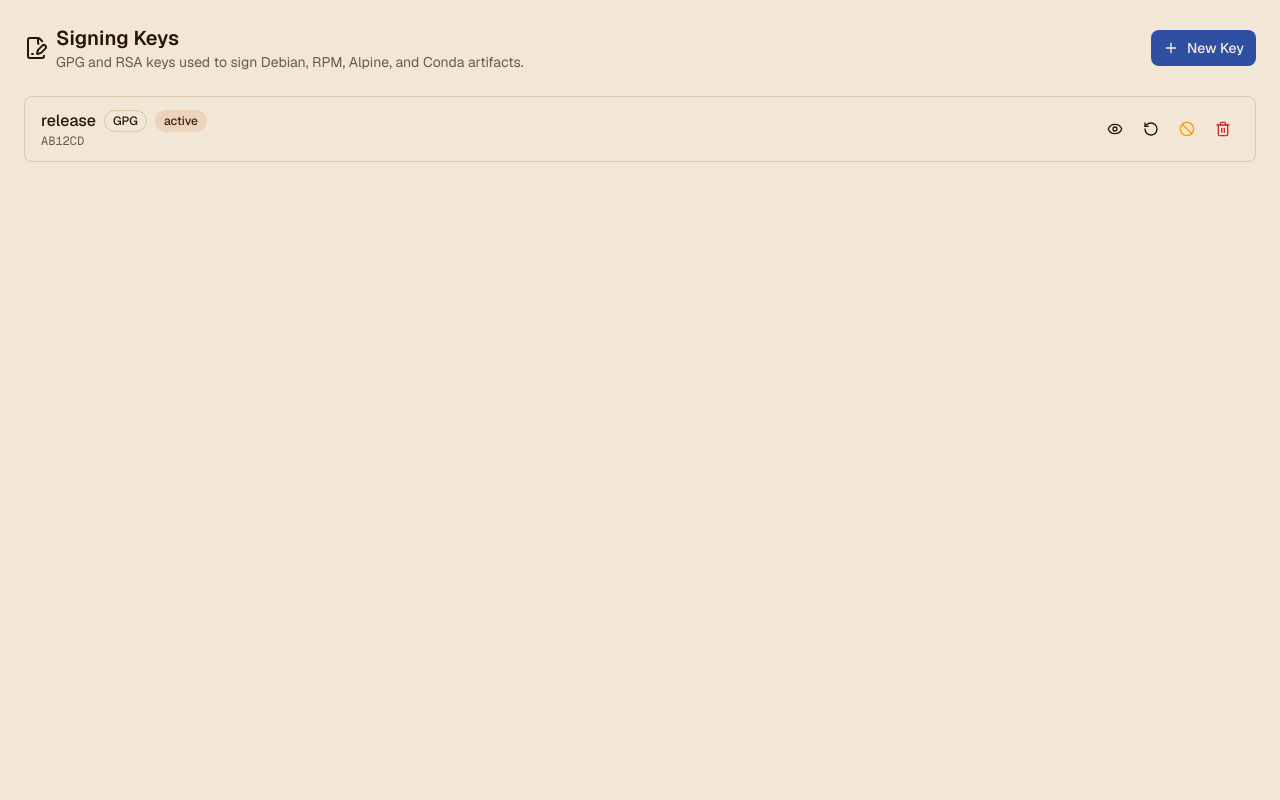
Scenario: SigningPage › opens the public-key dialog
This screenshot has width=1280, height=800.
Click the button named "View public key for release". click: (1115,129)
box: [1099,113,1131,145]
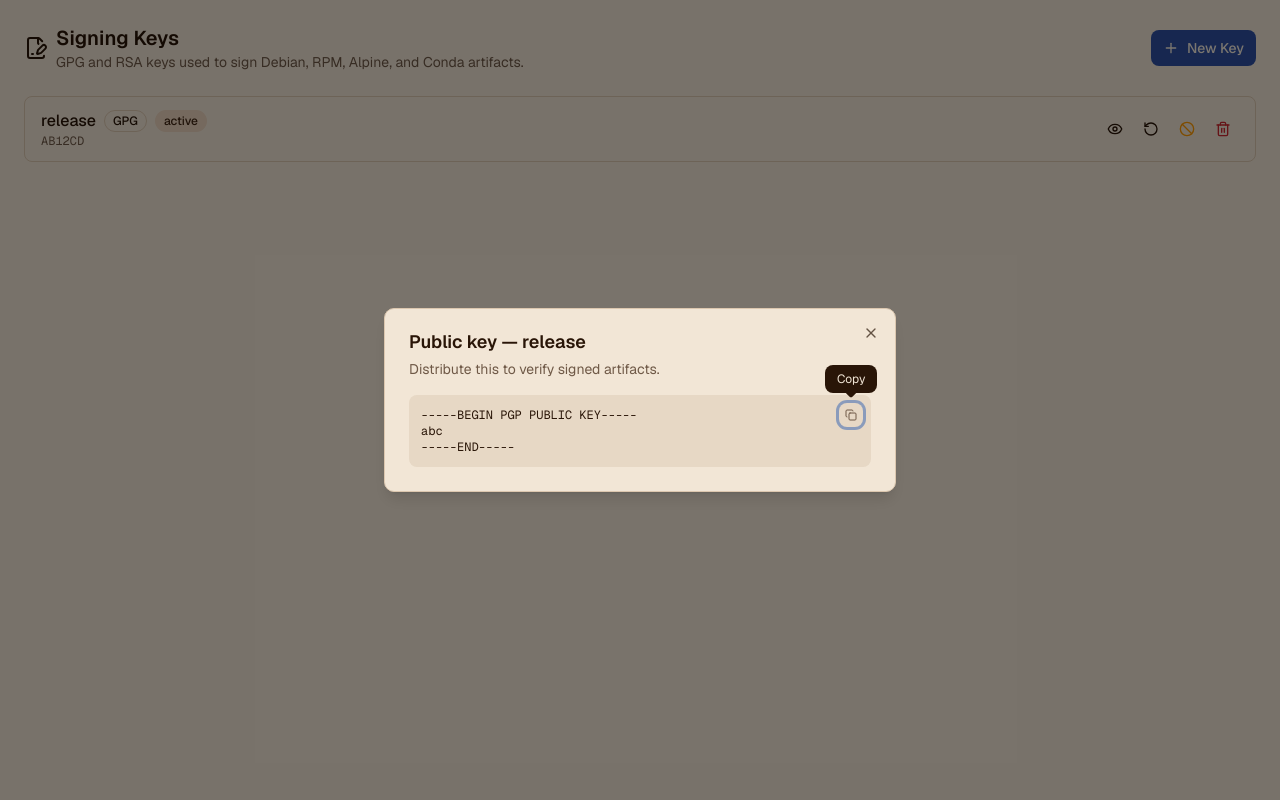
Expected: the heading "Public key — release" is shown, [409,330,586,353]
Expected: the text "-----BEGIN PGP PUBLIC KEY----- abc -----END-----" is shown, [409,395,871,467]
